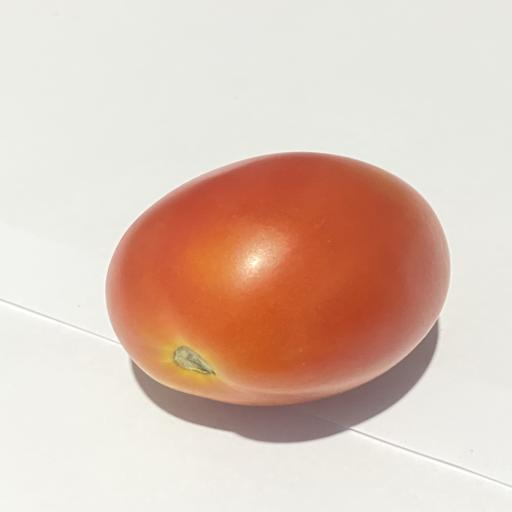ripe: (106, 153, 450, 405)
